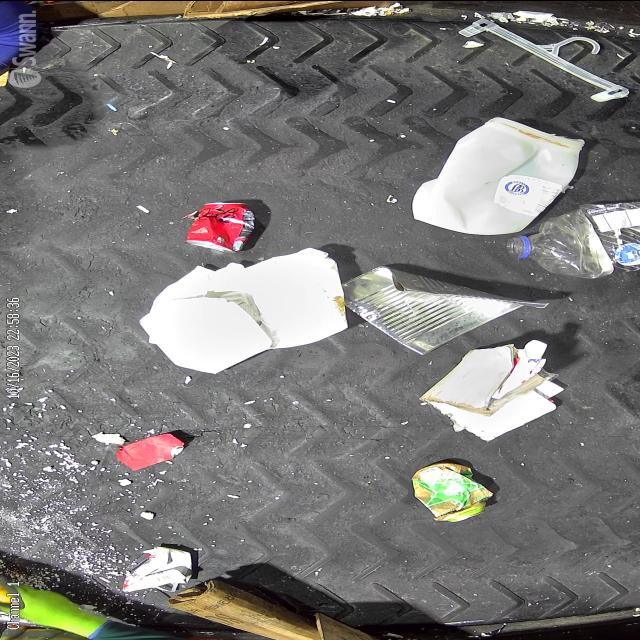can: (185, 200, 257, 252)
milk_jug: (410, 116, 584, 235)
plastic_bottle: (503, 200, 640, 278)
